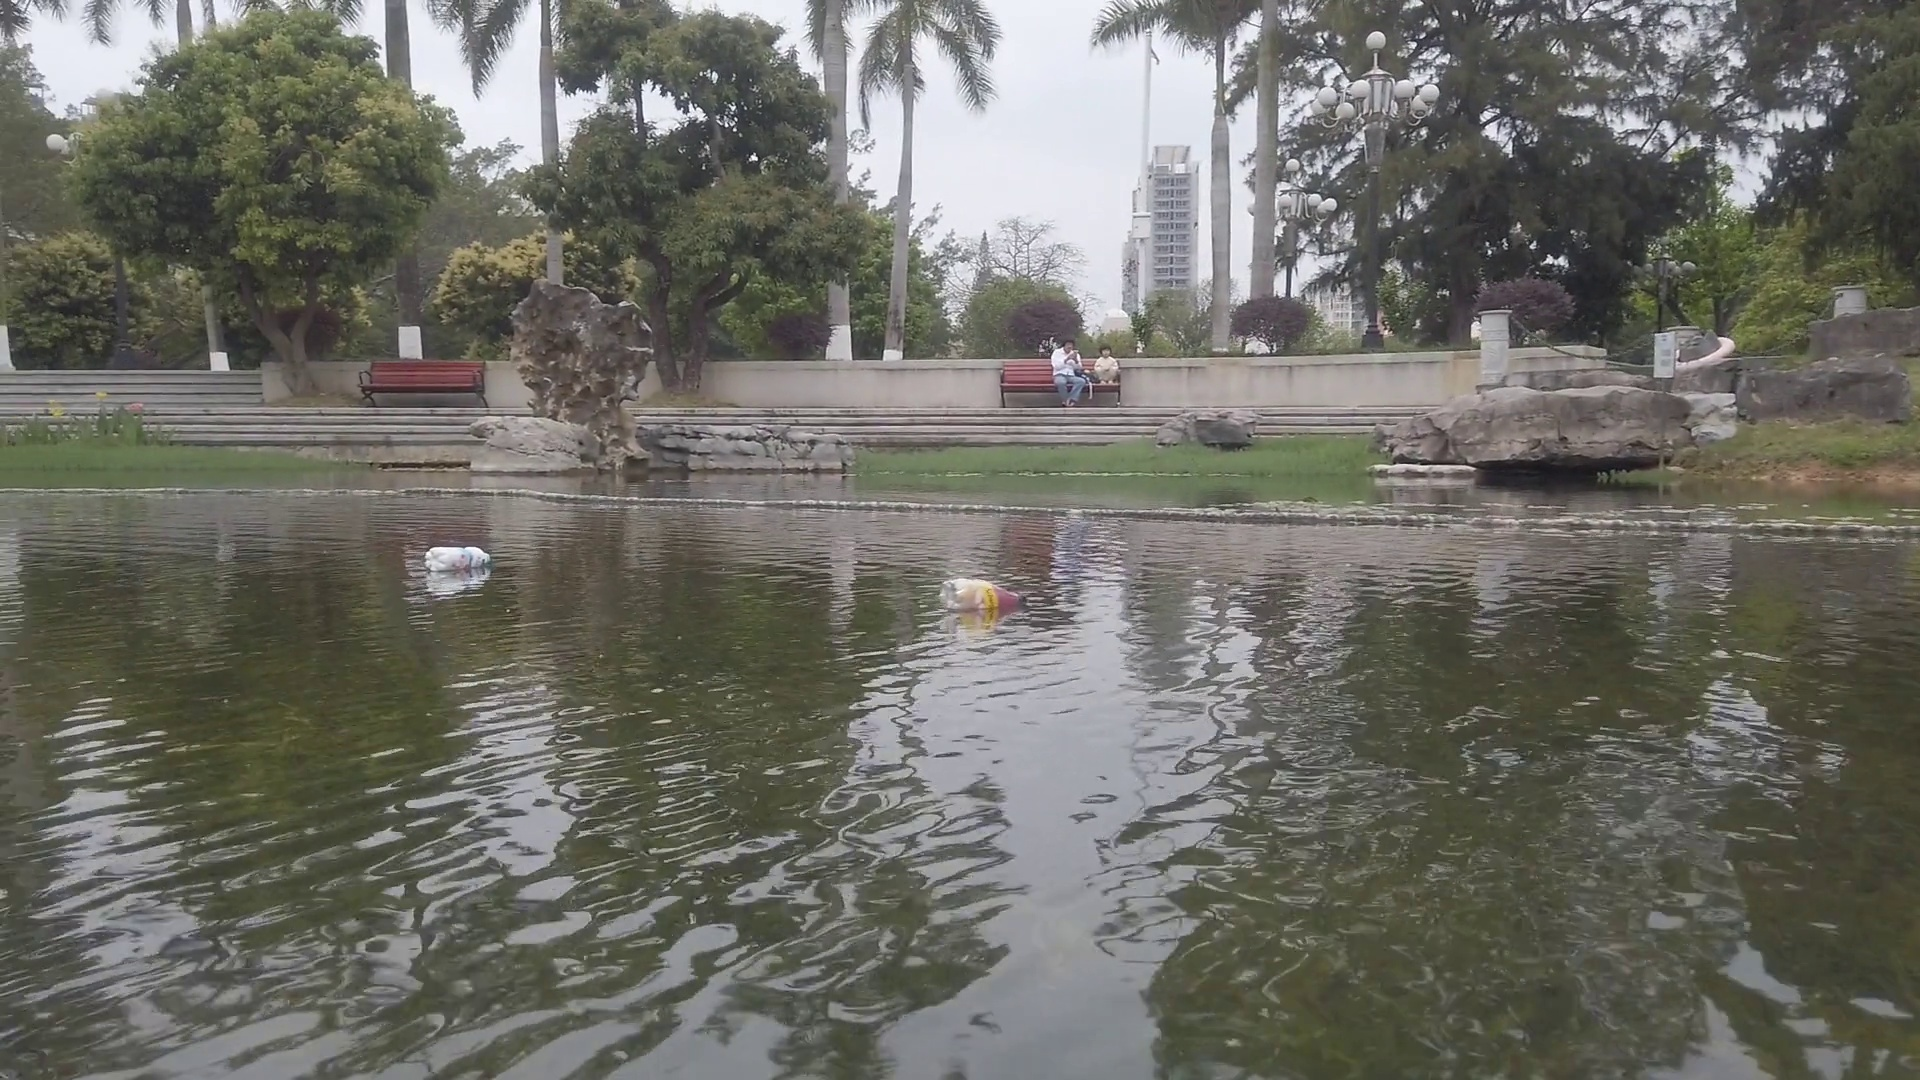bottle: (944, 576, 1033, 611), (425, 545, 493, 568)
